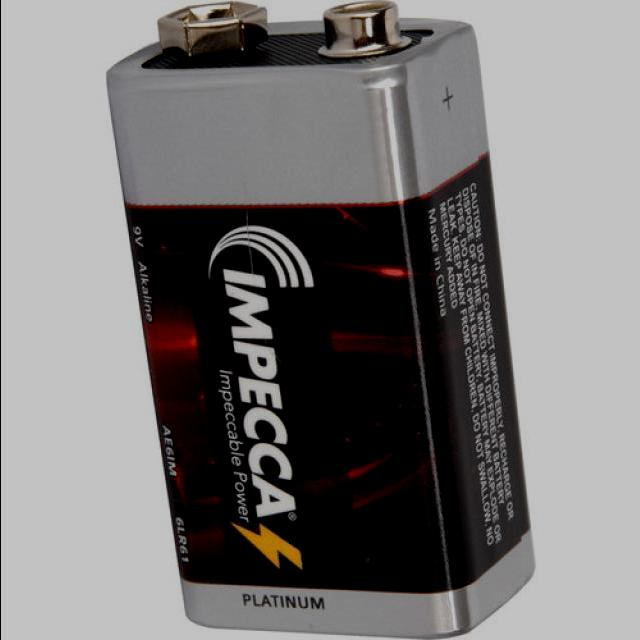9V: (105, 0, 537, 639)
